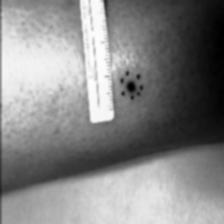Unclassified: (121, 68, 154, 140)
